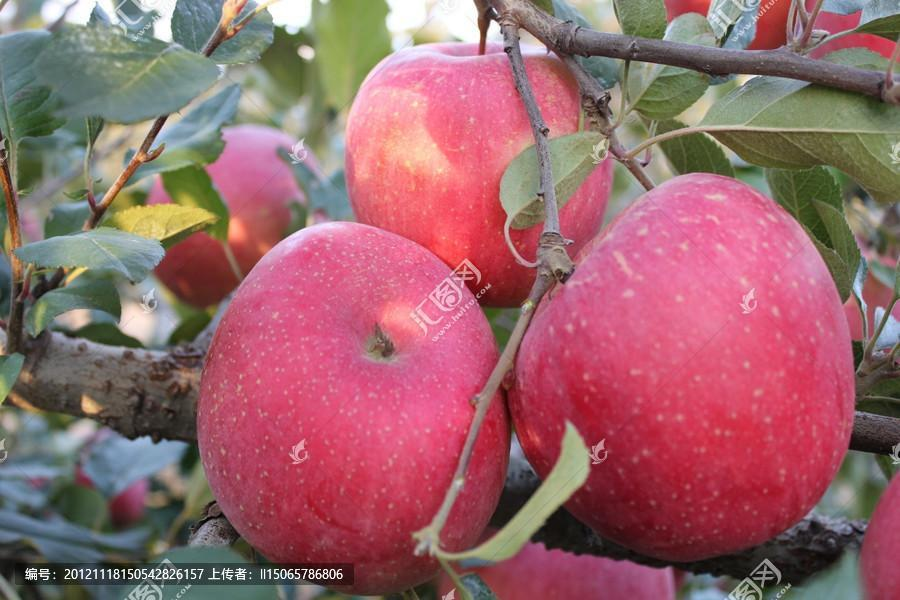apple: (510, 175, 849, 562), (194, 220, 510, 581), (342, 40, 616, 311)
